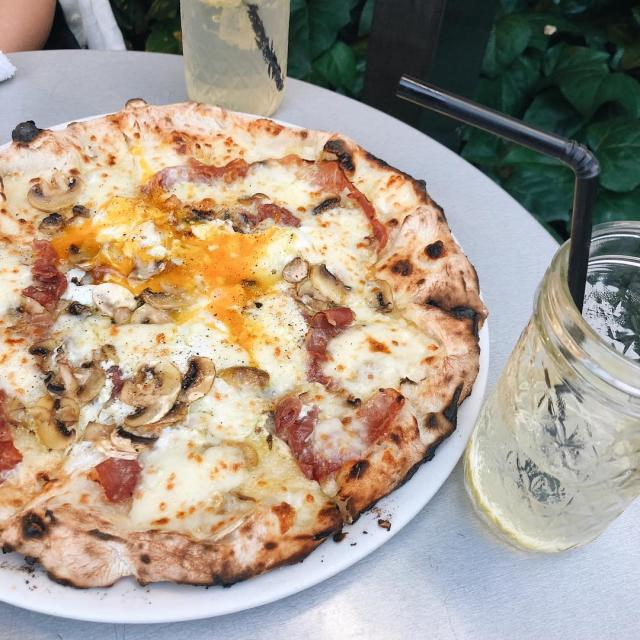mushrooms: (120, 361, 182, 427), (28, 168, 84, 212), (85, 422, 137, 460), (31, 406, 73, 450), (39, 205, 90, 235), (309, 264, 346, 305), (76, 368, 106, 402), (192, 219, 234, 240), (131, 304, 173, 324), (371, 280, 394, 312), (59, 362, 79, 397), (28, 338, 58, 356), (20, 296, 45, 315), (146, 291, 169, 311)
pizza: (0, 100, 485, 588)
